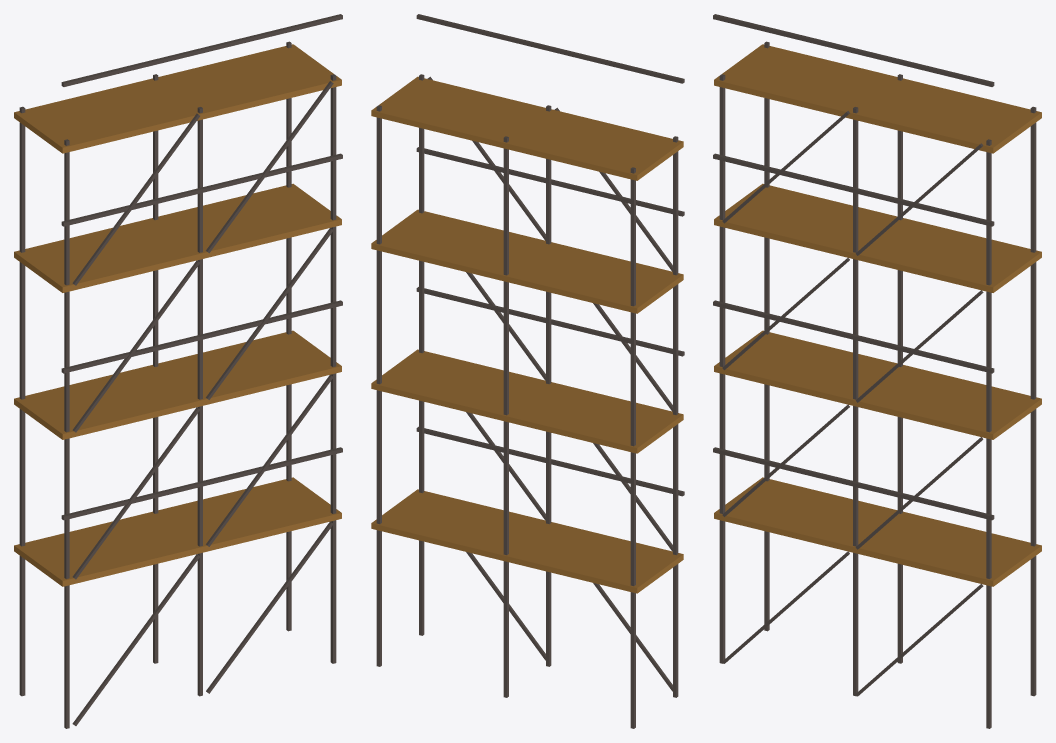
Rendered from SM_KitSueltas_v7_LOD0.fbx.
3 views of the same model, side by side, from view 1: azimuth 30°, elevation 25°; view 2: azimuth 150°, elevation 25°; view 3: azimuth 330°, elevation 25° (orthographic). The views are drawn at different scales.
Parts seen in each view (by area): view 1: SM_bloques.kit_sueltas_v7_LOD0; view 2: SM_bloques.kit_sueltas_v7_LOD0; view 3: SM_bloques.kit_sueltas_v7_LOD0.
Part boxes in pixels (bbox=[...]): SM_bloques.kit_sueltas_v7_LOD0: bbox=[14, 14, 342, 728]; SM_bloques.kit_sueltas_v7_LOD0: bbox=[371, 14, 684, 728]; SM_bloques.kit_sueltas_v7_LOD0: bbox=[713, 14, 1041, 728].
Bounding box in the file's own units: 3.98 × 8.82 × 1.24.
